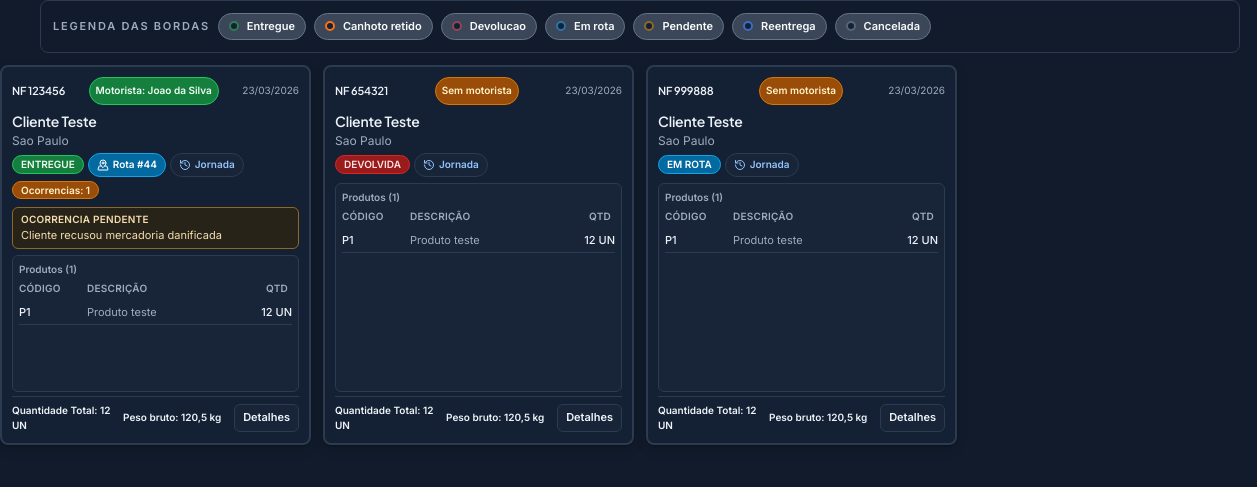
Test: CardDanfes › exibe legenda, motorista, bordas corretas e permite filtrar pela legenda
Expected: the element with test id "danfe-status-legend" is shown, [40,0,1240,52]
Expected: the text "Motorista: Joao da Silva" is shown, [96,84,212,97]
Click the button with aria-label "Filtrar por Entregue": {"x": 262, "y": 26} [218,13,306,40]
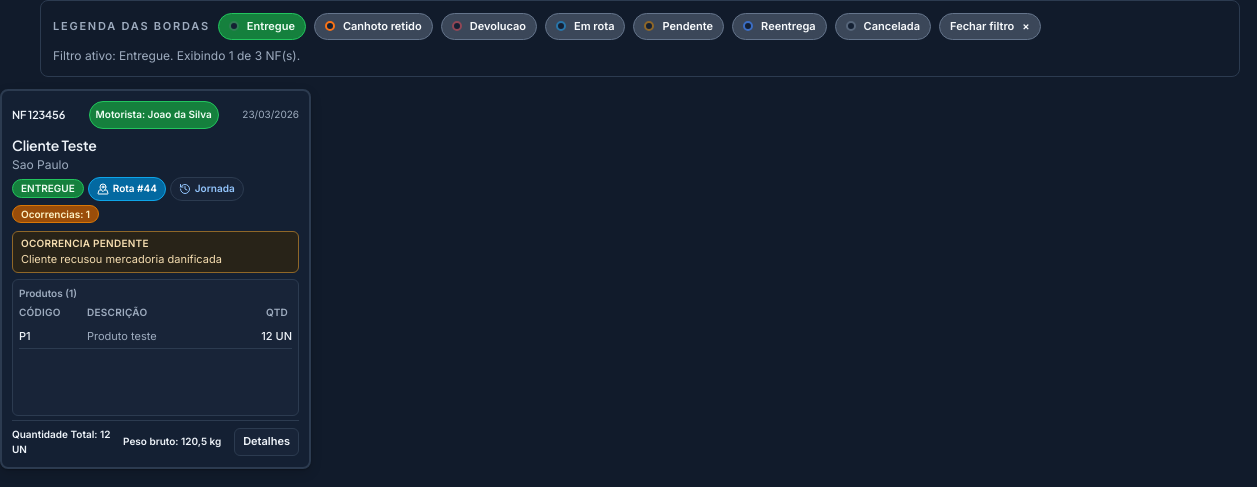
Expected: the text "Filtro ativo: Entregue. Exibindo 1 de 3 NF(s)." is shown, [53,48,300,62]
Expected: the element with test id "danfe-card-654321" is gone
Expected: the element with test id "danfe-card-999888" is gone
Click the button with aria-label "Limpar filtro de status": {"x": 990, "y": 26} [939,13,1041,40]
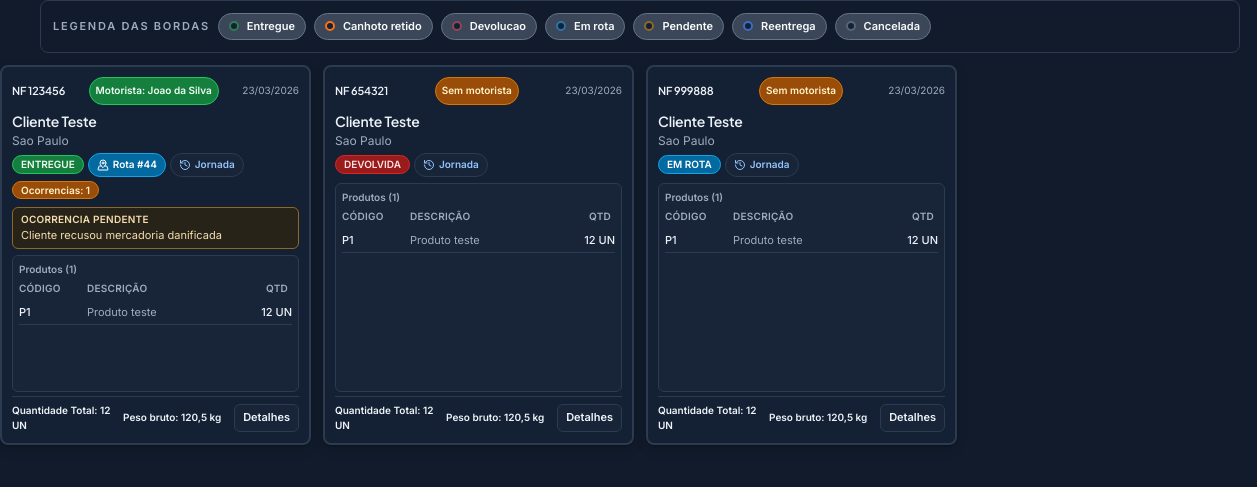
Expected: the element with test id "danfe-card-654321" is shown, [323,64,634,444]
Expected: the element with test id "danfe-card-999888" is shown, [646,64,957,444]
Expected: the text "Filtro ativo: Entregue. Exibindo 1 de 3 NF(s)." is gone
